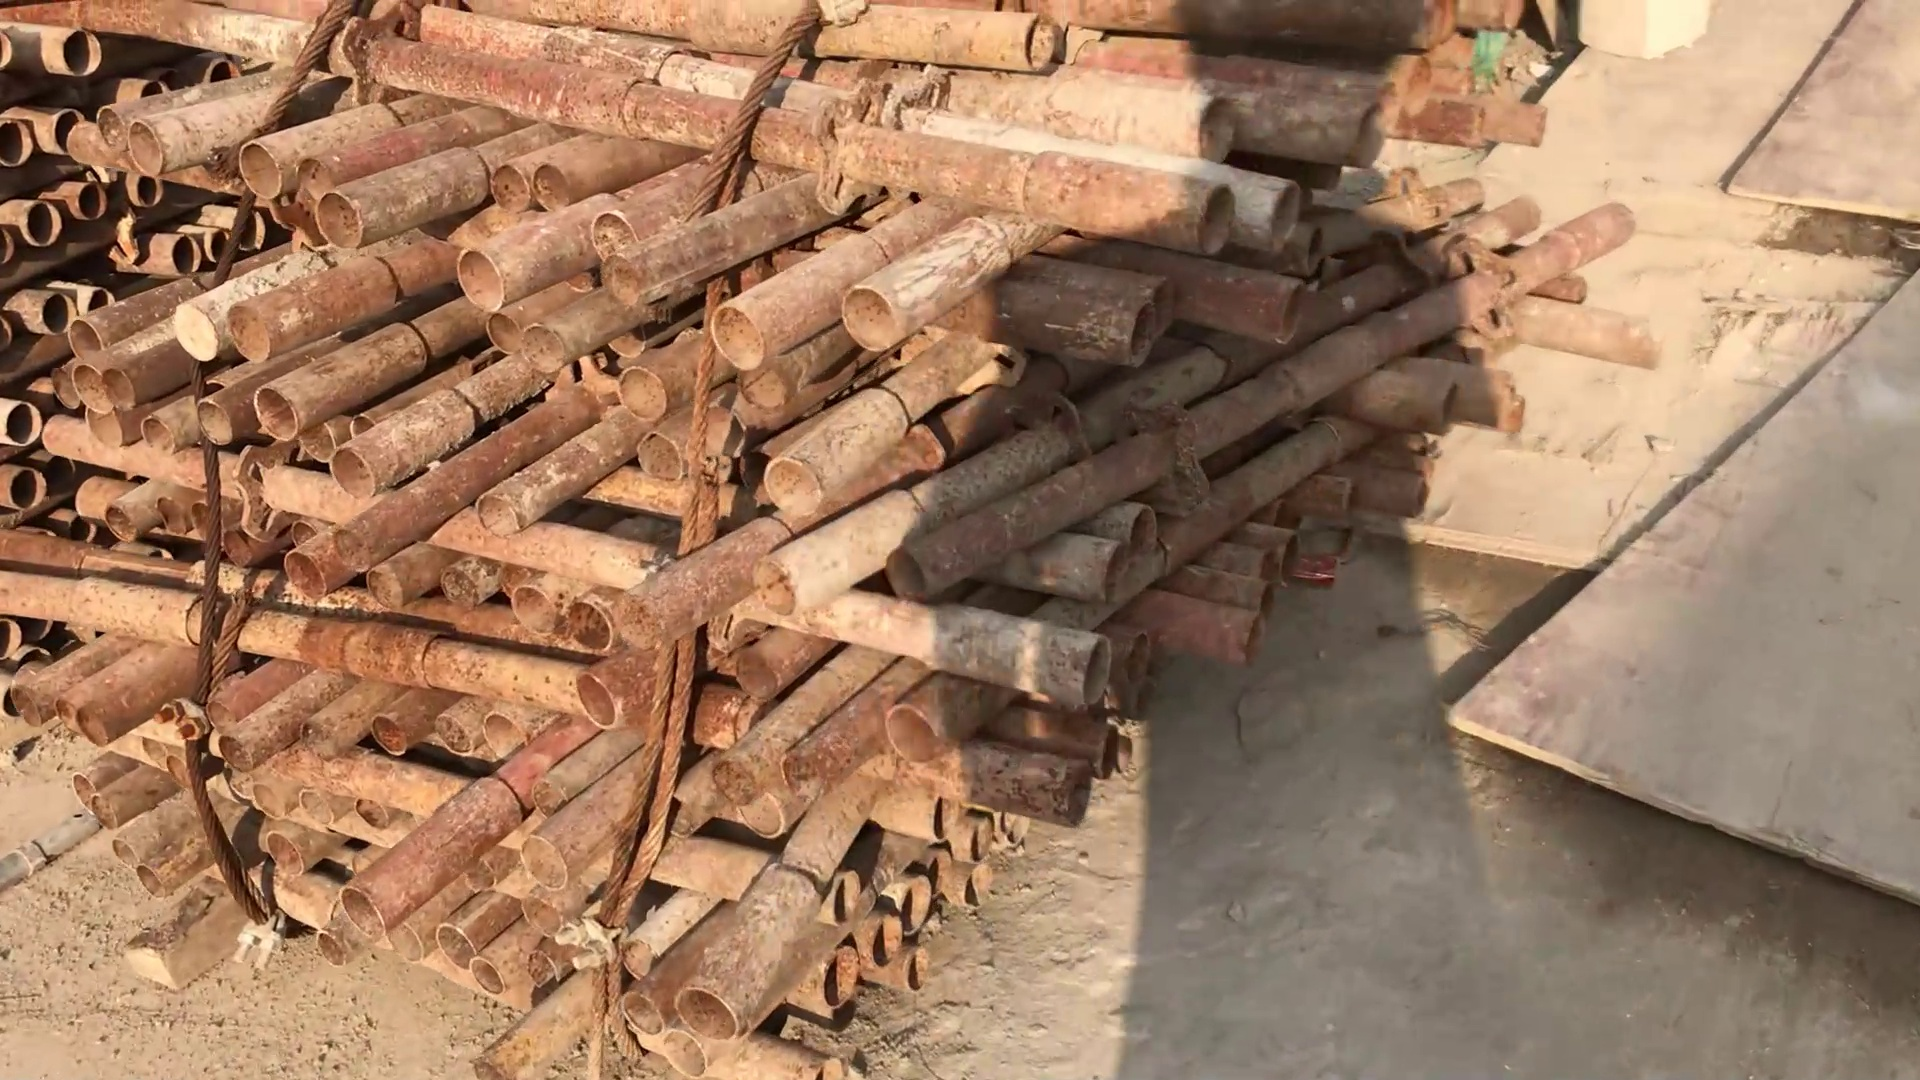scaffold: (1, 1, 1638, 1080)
